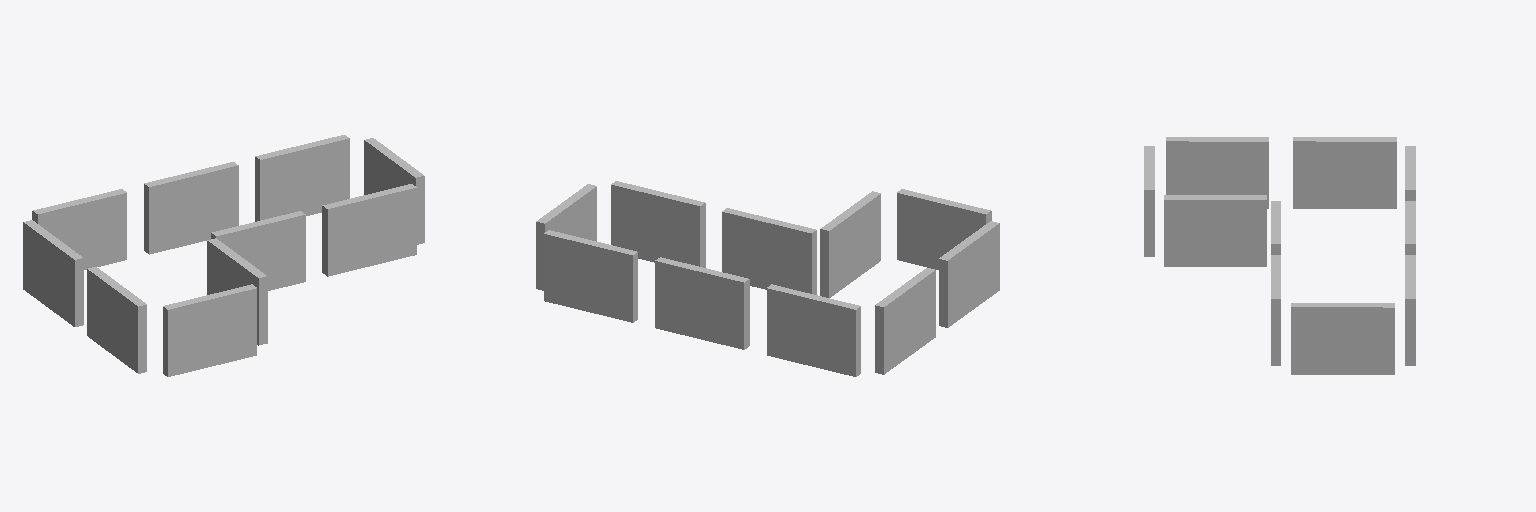
Rendered from wall1.obj.
3 renders of one model, left to right at view 1: azimuth 30°, elevation 25°; view 2: azimuth 150°, elevation 25°; view 3: azimuth 270°, elevation 25°, orthographic.
Visible parts, largest first — view 1: Cube.001_Cube.002, Cube.069_Cube.088, Cube.027_Cube.030, Cube_Cube.001, Cube.049_Cube.052, Cube.034_Cube.067, Cube.039_Cube.068, Cube.026_Cube.029, Cube.060_Cube.081, Cube.042_Cube.045; view 2: Cube.027_Cube.030, Cube_Cube.001, Cube.049_Cube.052, Cube.001_Cube.002, Cube.026_Cube.029, Cube.069_Cube.088, Cube.034_Cube.067, Cube.039_Cube.068, Cube.060_Cube.081, Cube.042_Cube.045; view 3: Cube.042_Cube.045, Cube.034_Cube.067, Cube.060_Cube.081, Cube.039_Cube.068, Cube_Cube.001, Cube.069_Cube.088, Cube.001_Cube.002, Cube.049_Cube.052, Cube.027_Cube.030, Cube.026_Cube.029.
Boxes of the visible parts, <box> form: Cube.001_Cube.002: <box>322,184,416,276</box>; Cube.069_Cube.088: <box>163,284,256,376</box>; Cube.027_Cube.030: <box>144,162,238,254</box>; Cube_Cube.001: <box>255,135,349,221</box>; Cube.049_Cube.052: <box>32,189,126,269</box>; Cube.034_Cube.067: <box>23,220,83,326</box>; Cube.039_Cube.068: <box>87,267,146,373</box>; Cube.026_Cube.029: <box>211,211,305,290</box>; Cube.060_Cube.081: <box>207,238,267,345</box>; Cube.042_Cube.045: <box>364,138,424,244</box>; Cube.027_Cube.030: <box>655,257,749,349</box>; Cube_Cube.001: <box>544,230,637,322</box>; Cube.049_Cube.052: <box>767,284,860,376</box>; Cube.001_Cube.002: <box>611,181,705,267</box>; Cube.026_Cube.029: <box>722,208,816,294</box>; Cube.069_Cube.088: <box>897,189,991,269</box>; Cube.034_Cube.067: <box>875,268,935,374</box>; Cube.039_Cube.068: <box>939,221,999,327</box>; Cube.060_Cube.081: <box>820,191,880,297</box>; Cube.042_Cube.045: <box>536,184,596,290</box>; Cube.042_Cube.045: <box>1291,303,1394,374</box>; Cube.034_Cube.067: <box>1293,137,1396,208</box>; Cube.060_Cube.081: <box>1164,195,1266,266</box>; Cube.039_Cube.068: <box>1166,137,1268,208</box>; Cube_Cube.001: <box>1405,255,1415,365</box>; Cube.069_Cube.088: <box>1144,146,1154,256</box>; Cube.001_Cube.002: <box>1271,255,1280,365</box>; Cube.049_Cube.052: <box>1405,146,1415,200</box>; Cube.027_Cube.030: <box>1405,201,1415,254</box>; Cube.026_Cube.029: <box>1271,201,1280,254</box>.
Size of the model in its own units: 7.81 by 1.44 by 5.25.